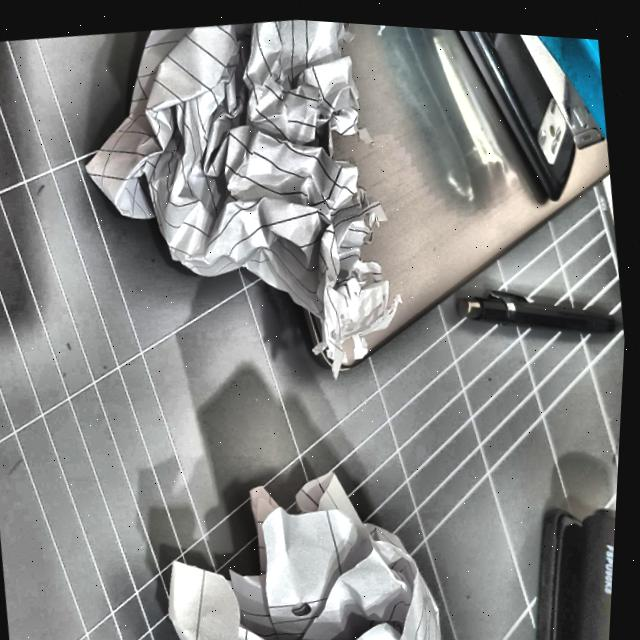paper: (70, 4, 416, 394), (151, 432, 459, 640)
